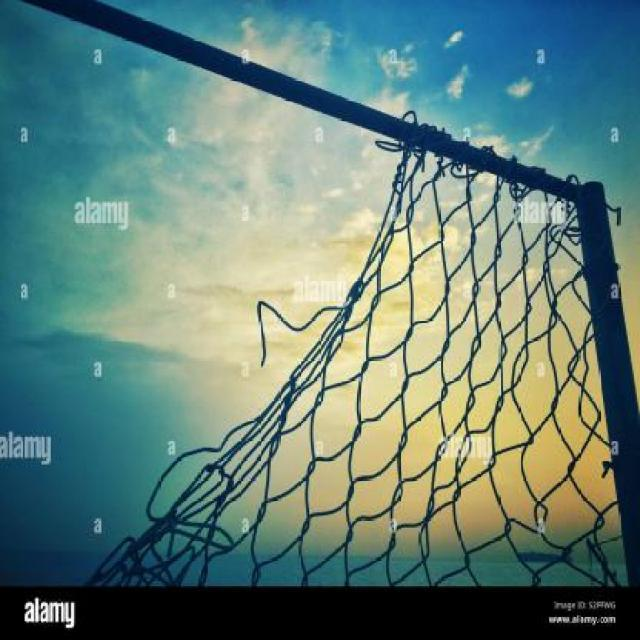fence line: (23, 125, 400, 580)
